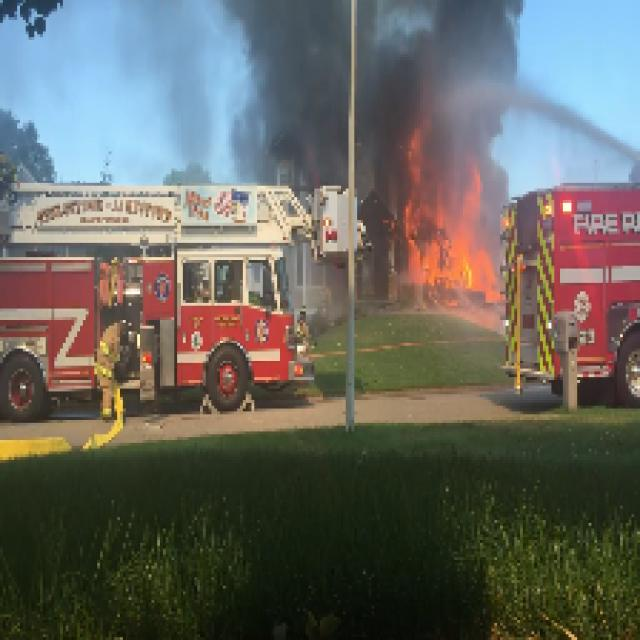smoke: (251, 11, 346, 190)
